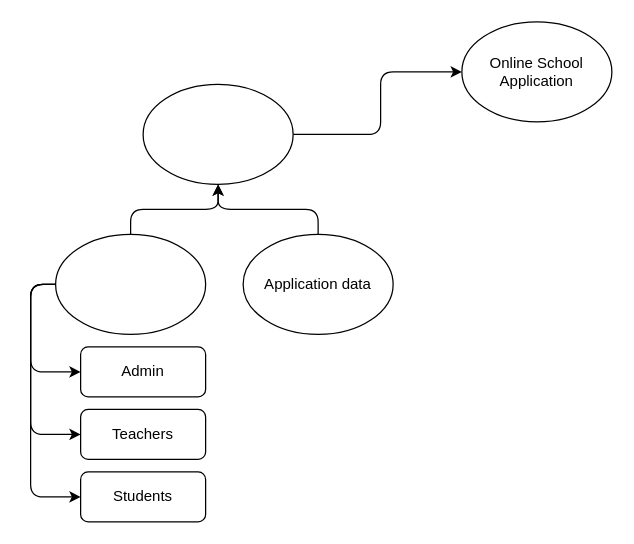
Some shapes in this 634 by 544 pixel diagram are drawn without their labels. Each missing label, with the centre of its shape:
Database SQL: [217,133]
Users: [130,283]
